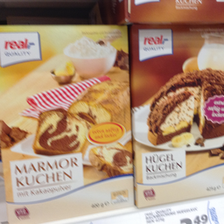cake: (1, 22, 130, 224), (132, 21, 224, 204)
